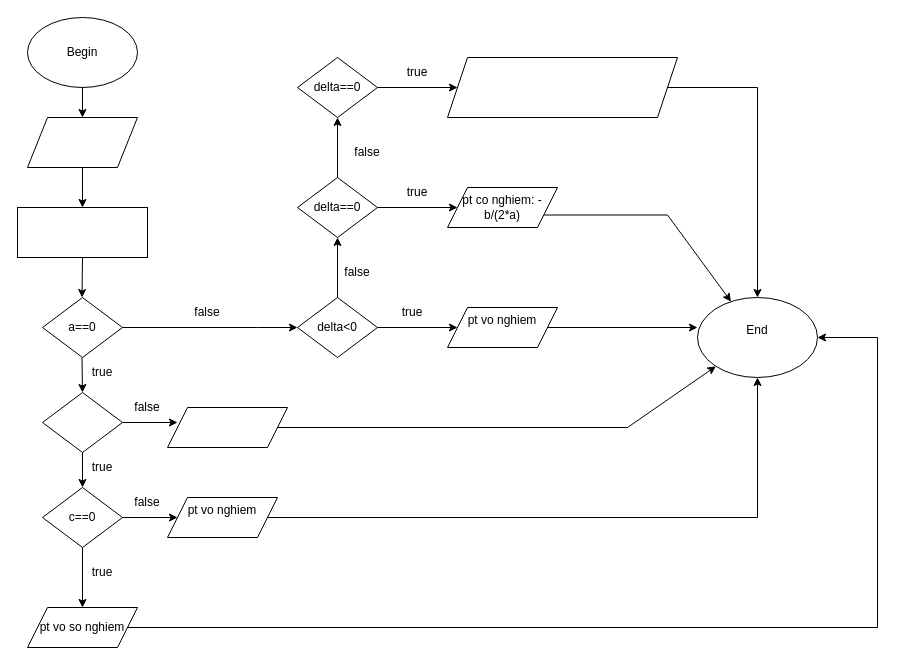
Some shapes in this 903 by 665 pixel diagram are drawn without their labels. The centre of each missing label's shape, as x and y in pixels:
b==0: (x=82, y=422)
nghiem pt : -c/b: (x=227, y=427)
Nhap a,b,c: (x=82, y=142)
pt co nghiem: x1= (-b-sqrt(delta))/(2*a) va x2= (-b+sqrt(delta))/(2*a): (x=562, y=87)
Tinh delta=b*b-4*a*c: (x=82, y=232)
